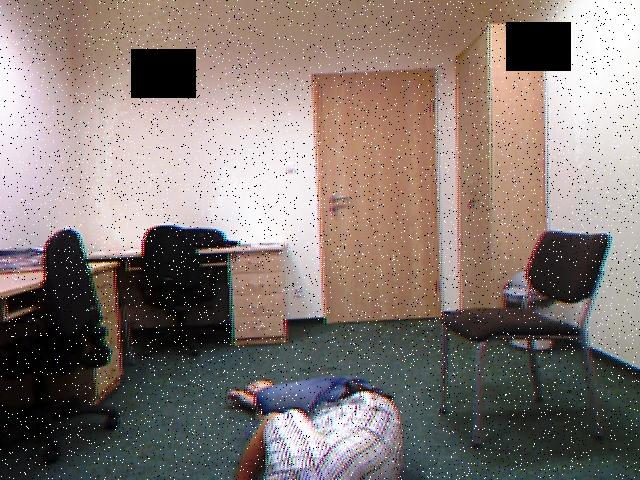fall: (220, 374, 405, 479)
